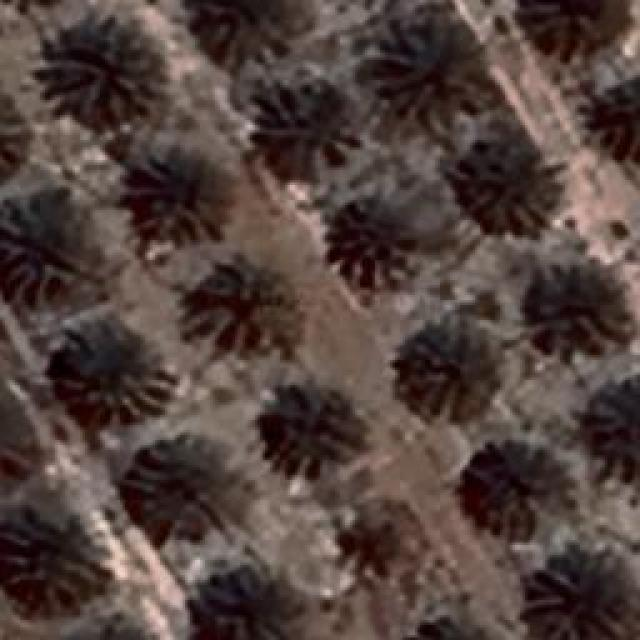PalmTree: (44, 85, 229, 605), (120, 70, 618, 117), (40, 15, 158, 120), (365, 19, 480, 122), (255, 370, 365, 475), (185, 252, 300, 352), (398, 324, 512, 418), (2, 505, 108, 605), (58, 327, 172, 415), (527, 557, 640, 640), (468, 448, 572, 538), (130, 439, 232, 529), (530, 254, 628, 346), (462, 130, 552, 228), (0, 198, 88, 298), (132, 152, 225, 245), (338, 204, 422, 302), (255, 85, 343, 163), (200, 0, 295, 62), (332, 511, 410, 580), (522, 0, 625, 52), (592, 375, 640, 465), (0, 388, 32, 490), (0, 84, 27, 182), (58, 617, 168, 640), (408, 616, 502, 640), (58, 623, 168, 640), (0, 391, 19, 487), (406, 622, 504, 640)
